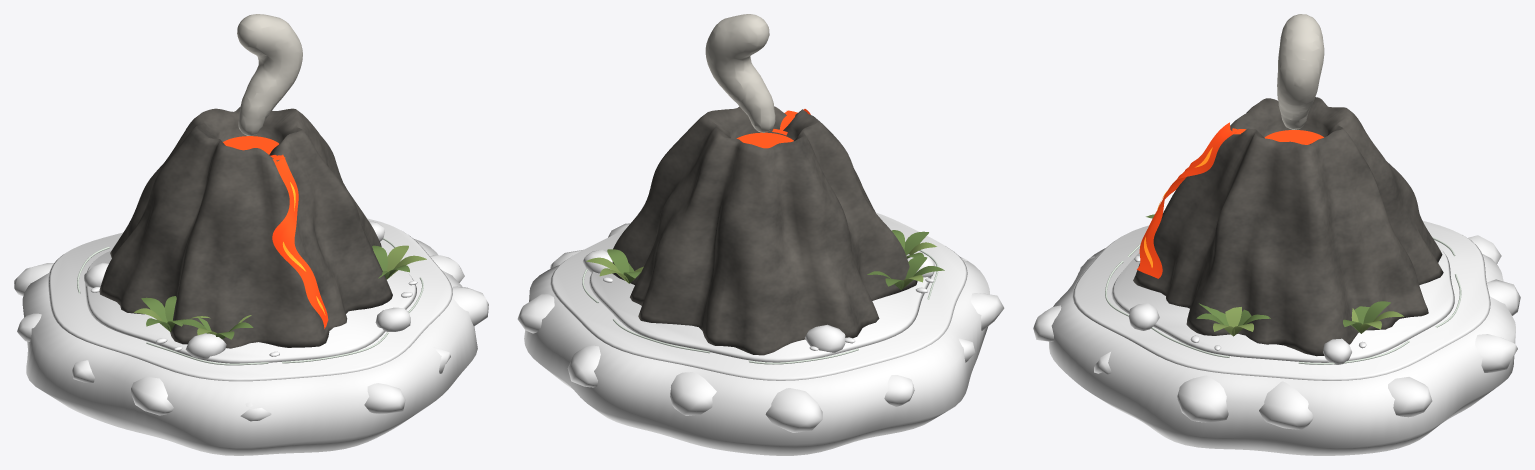
File: volcano-island-v5.glb
3 views of the same model, side by side, from view 1: azimuth 30°, elevation 25°; view 2: azimuth 150°, elevation 25°; view 3: azimuth 270°, elevation 25° (orthographic). The views are drawn at different scales.
Parts seen in each view (by area): view 1: Volcano | hollow fluted mountain, Rock | irregular island foundation, Water | enclosed turquoise lagoon, Sand | island shore, Smoke | blended plume.001, Lava | continuous winding flow, Rock | shoreline boulder.007, Rock | shoreline boulder.009, Rock | shoreline boulder.011, Rock | beach stone, Rock | beach stone.001, Lava | crater pool (+1 smaller); view 2: Volcano | hollow fluted mountain, Rock | irregular island foundation, Water | enclosed turquoise lagoon, Sand | island shore, Smoke | blended plume.001, Rock | shoreline boulder.004, Rock | shoreline boulder.003, Rock | shoreline boulder.002, Rock | shoreline boulder.001, Rock | beach stone.003, Rock | shoreline boulder.007, Rock | shoreline boulder.005 (+1 smaller); view 3: Volcano | hollow fluted mountain, Rock | irregular island foundation, Water | enclosed turquoise lagoon, Sand | island shore, Smoke | blended plume.001, Lava | continuous winding flow, Rock | shoreline boulder.011, Rock | shoreline boulder, Rock | shoreline boulder.001, Rock | shoreline boulder.002, Rock | shoreline boulder.003, Rock | beach stone.001 (+3 smaller).
Boxes of the visible parts, x1,y1,x2,y2 form: Volcano | hollow fluted mountain: (99, 106, 392, 348); Rock | irregular island foundation: (22, 238, 477, 455); Water | enclosed turquoise lagoon: (48, 218, 452, 381); Sand | island shore: (84, 242, 416, 363); Smoke | blended plume.001: (237, 14, 302, 135); Lava | continuous winding flow: (272, 154, 328, 328); Rock | shoreline boulder.007: (131, 376, 173, 415); Rock | shoreline boulder.009: (364, 383, 405, 414); Rock | shoreline boulder.011: (452, 286, 488, 326); Rock | beach stone: (185, 333, 226, 358); Rock | beach stone.001: (375, 307, 410, 331); Lava | crater pool: (223, 136, 278, 154); Volcano | hollow fluted mountain: (612, 106, 917, 355); Rock | irregular island foundation: (524, 257, 989, 455); Water | enclosed turquoise lagoon: (550, 212, 967, 380); Sand | island shore: (589, 252, 931, 362); Smoke | blended plume.001: (705, 14, 775, 132); Rock | shoreline boulder.004: (765, 388, 822, 432); Rock | shoreline boulder.003: (670, 372, 716, 415); Rock | shoreline boulder.002: (567, 345, 600, 387); Rock | shoreline boulder.001: (517, 294, 554, 333); Rock | beach stone.003: (805, 324, 845, 352); Rock | shoreline boulder.007: (971, 293, 1004, 330); Rock | shoreline boulder.005: (884, 375, 914, 406); Volcano | hollow fluted mountain: (1133, 97, 1443, 356); Rock | irregular island foundation: (1049, 248, 1515, 455); Water | enclosed turquoise lagoon: (1072, 221, 1490, 380); Sand | island shore: (1111, 246, 1454, 362); Smoke | blended plume.001: (1277, 14, 1324, 129); Lava | continuous winding flow: (1137, 122, 1236, 278); Rock | shoreline boulder.011: (1177, 375, 1228, 422); Rock | shoreline boulder: (1259, 381, 1313, 429); Rock | shoreline boulder.001: (1388, 377, 1432, 417); Rock | shoreline boulder.002: (1475, 334, 1517, 372); Rock | shoreline boulder.003: (1487, 279, 1520, 315); Rock | beach stone.001: (1129, 303, 1159, 330).
Size of the model in its own units: 1.65 by 1.35 by 1.64.
Materials: 11 (1 with a texture image).
